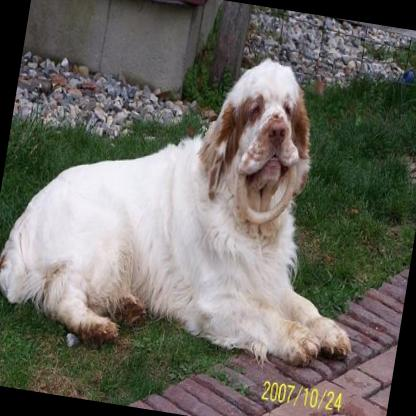clumber: (0, 15, 393, 375)
